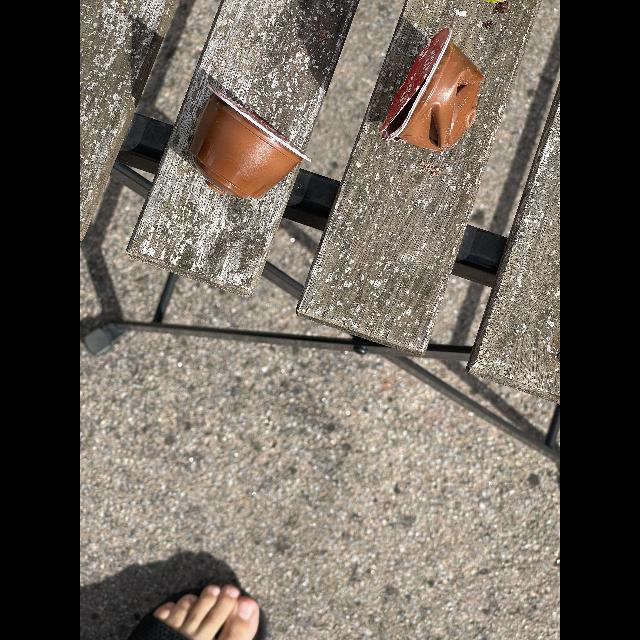damaged_capsule: (371, 25, 491, 168)
intact_capsule: (184, 79, 324, 207)
